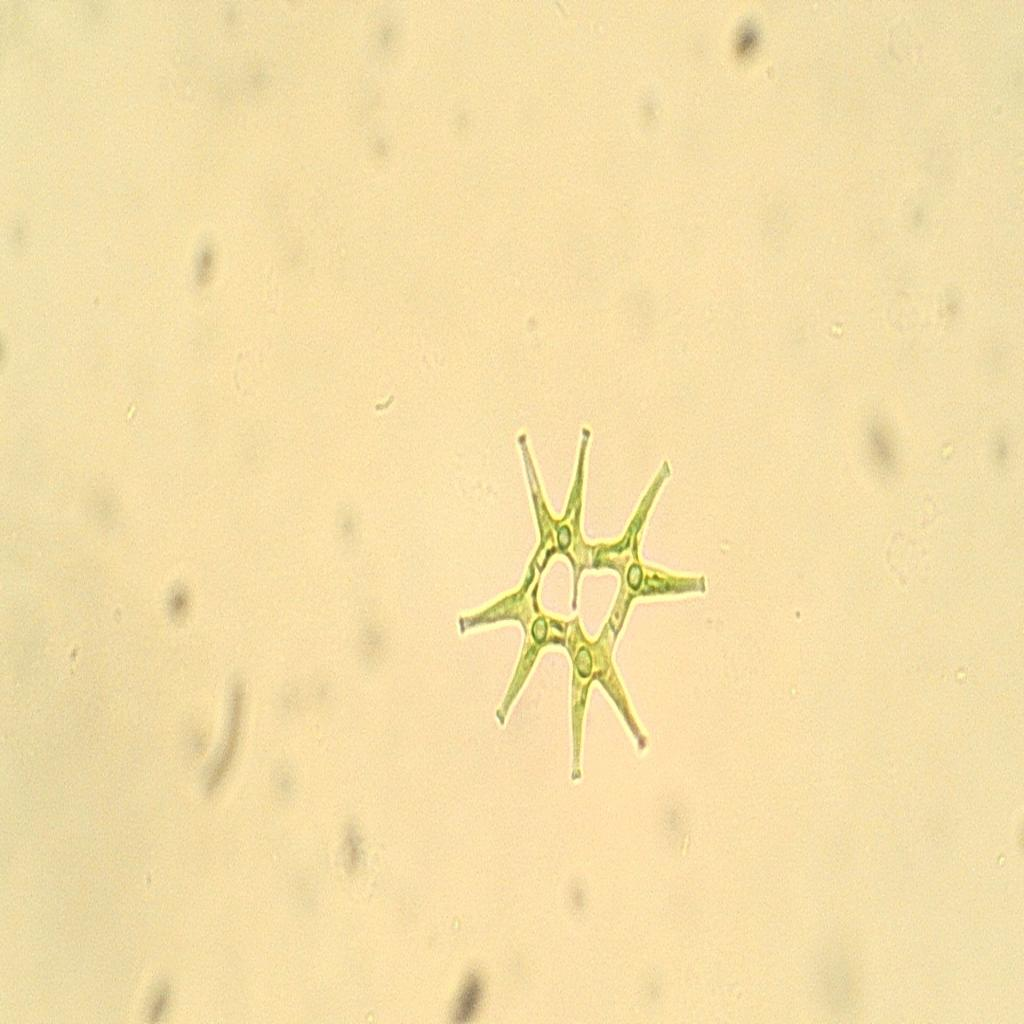Pediastrum_CF: (440, 410, 720, 798)
